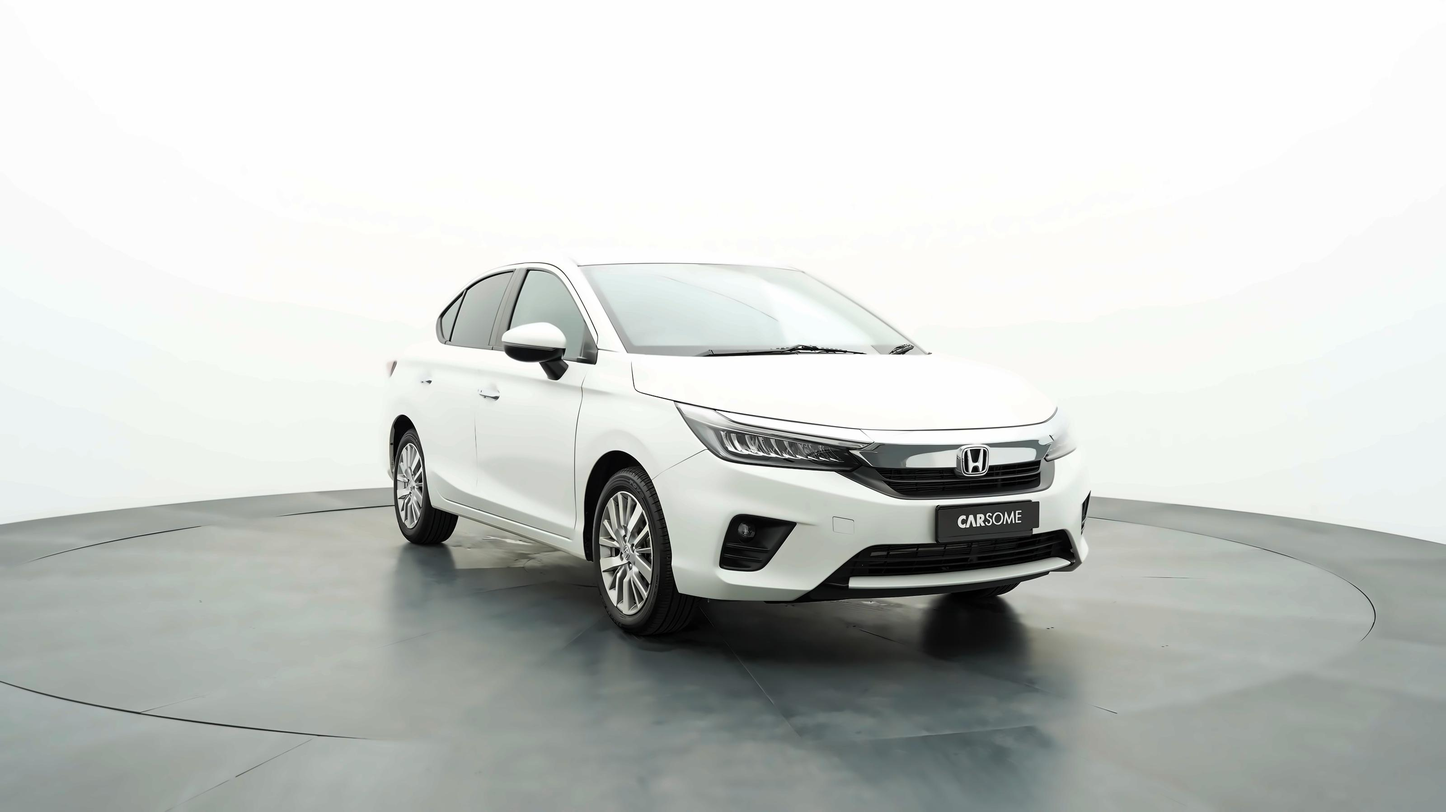Car hood: (633, 349, 1062, 436)
Driver-s door - -F-R-: (476, 260, 576, 539)
Fender - -F-R-: (572, 344, 705, 559)
Front bumper: (664, 455, 1099, 607)
Headlight - -L-: (1038, 415, 1084, 466)
Headlight - -R-: (670, 395, 877, 475)
Passenger-s door - -R-R-: (401, 267, 481, 513)
Rear light - -R-: (381, 354, 400, 382)
Side bumper - -R-: (416, 487, 599, 565)
Side mirror - -R-: (494, 317, 578, 386)
